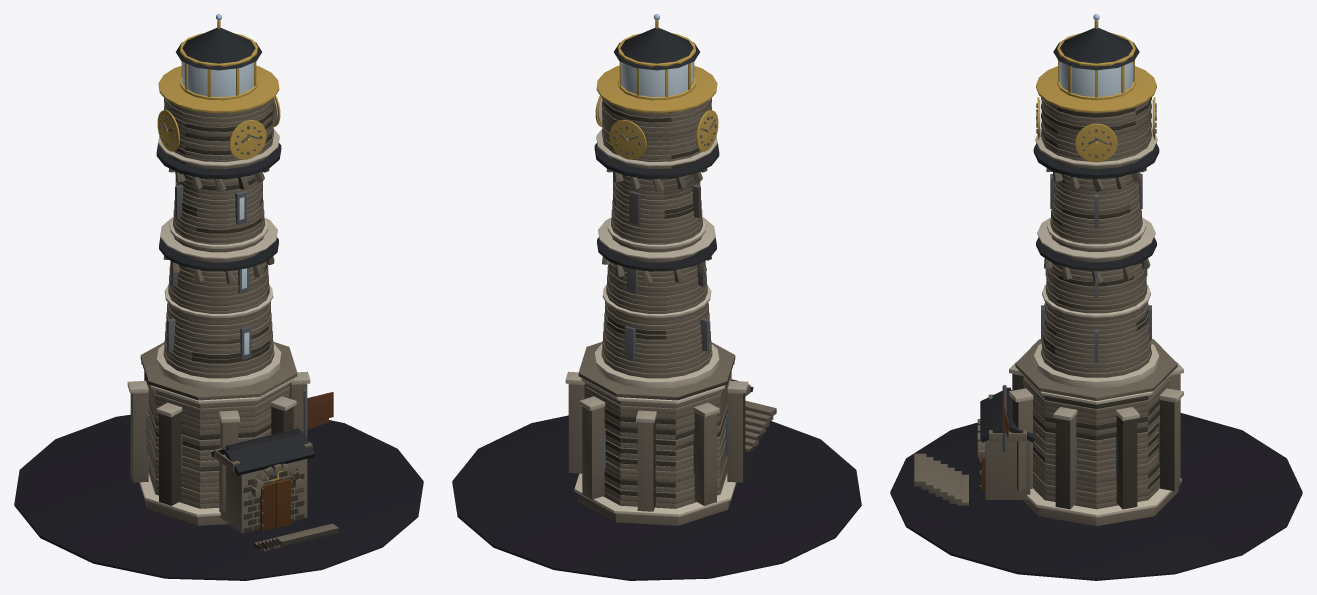
Rendered from building_university_clockwork_tower.fbx.
The picture shows the model from 3 angles, left to right: view 1: azimuth 30°, elevation 25°; view 2: azimuth 150°, elevation 25°; view 3: azimuth 270°, elevation 25°; orthographic projection.
Parts seen in each view (by area): view 1: building_university_clockwork_tower; view 2: building_university_clockwork_tower; view 3: building_university_clockwork_tower.
Part boxes in pixels (x1,y1,x2,y2): building_university_clockwork_tower: [14, 14, 423, 580]; building_university_clockwork_tower: [452, 14, 861, 580]; building_university_clockwork_tower: [890, 14, 1302, 580].
Size of the model in its own units: 12.8 by 16.43 by 12.8.
